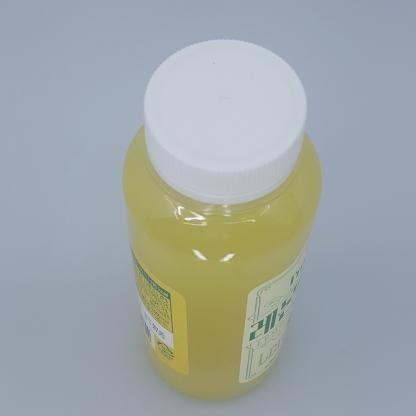----------------270ML: (122, 39, 322, 401)
